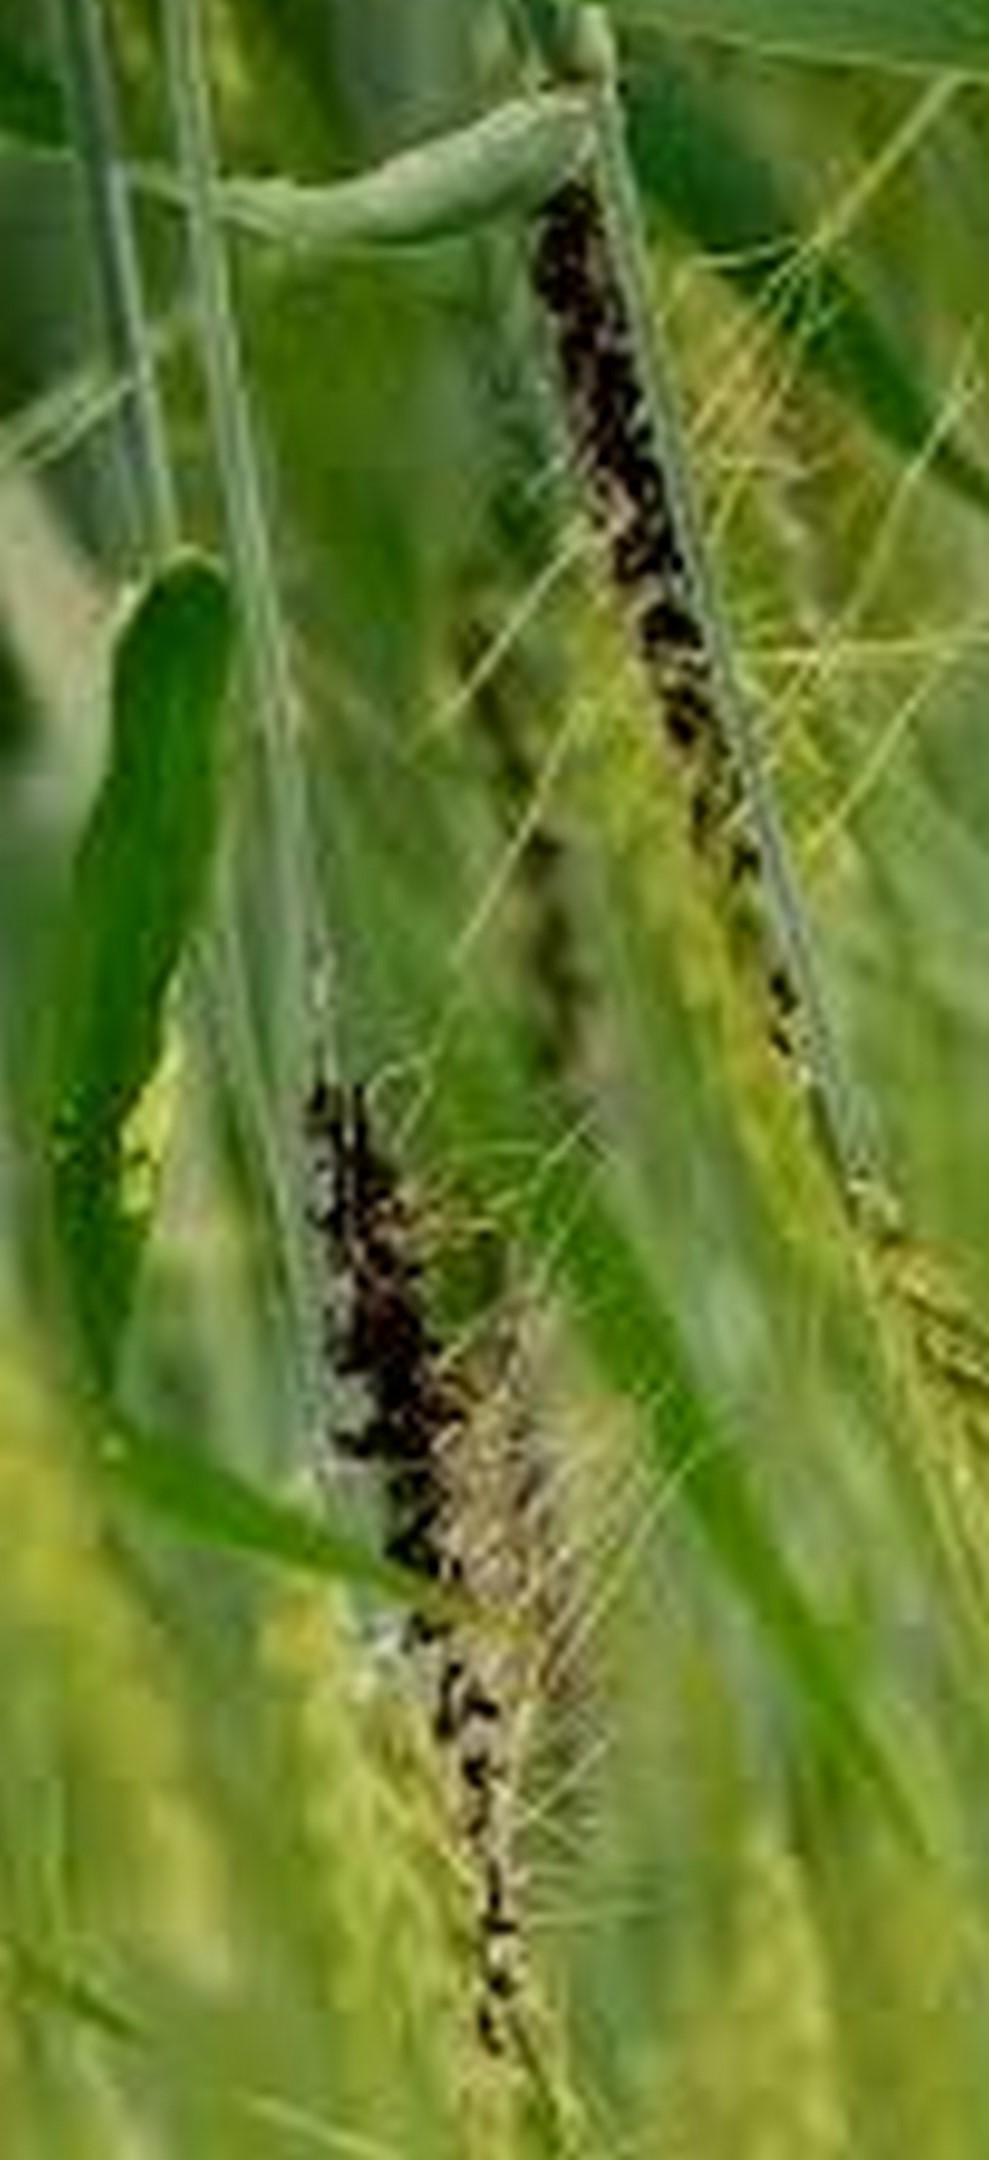Wheat Loose Smut: (287, 1103, 623, 1984), (493, 168, 771, 800)
